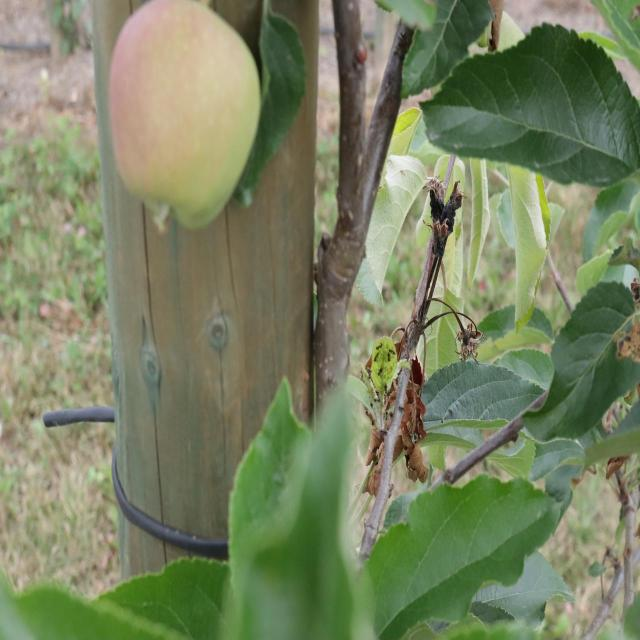-FireBlight-: (367, 182, 458, 499)
